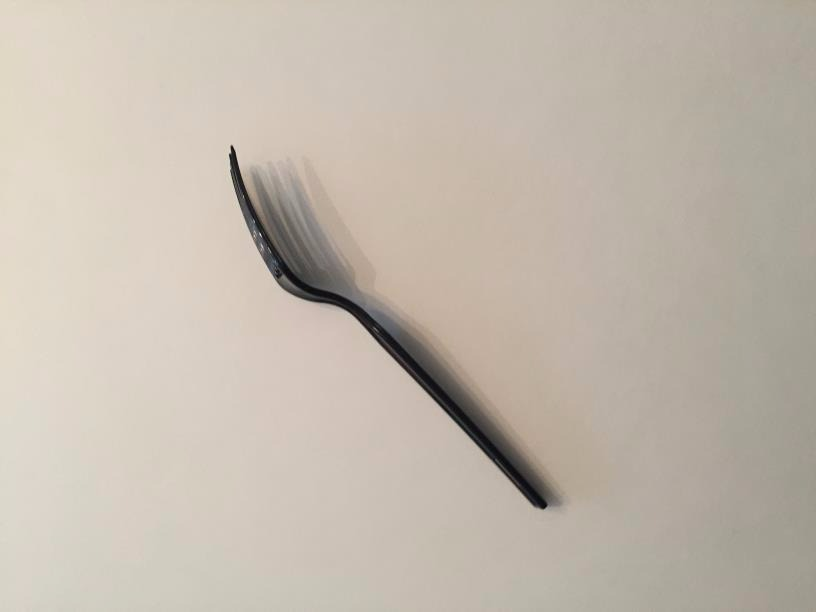fork: (153, 121, 667, 537)
